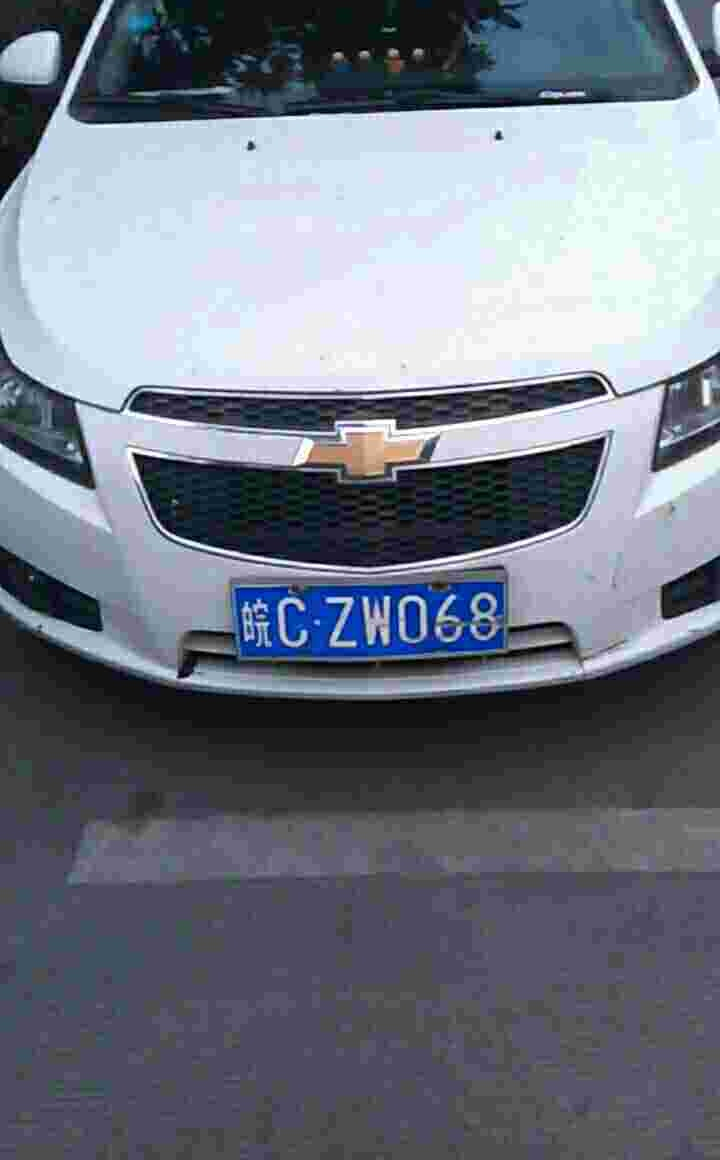license_plate: (224, 578, 518, 669)
